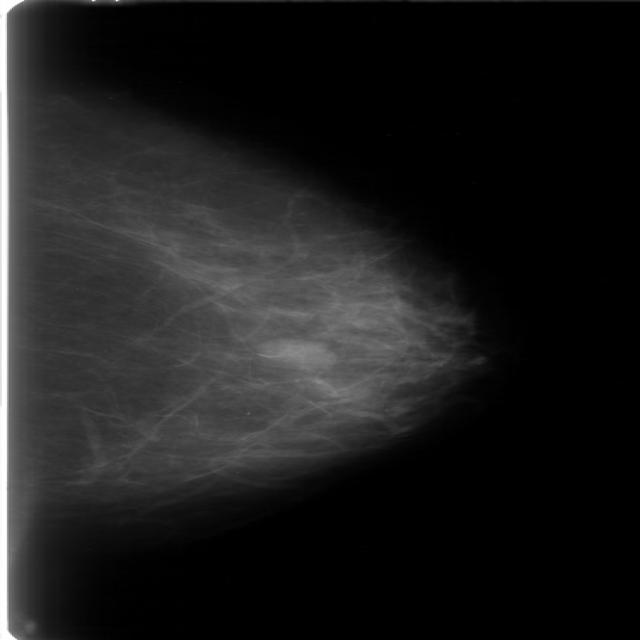tumour: (255, 337, 336, 368)
